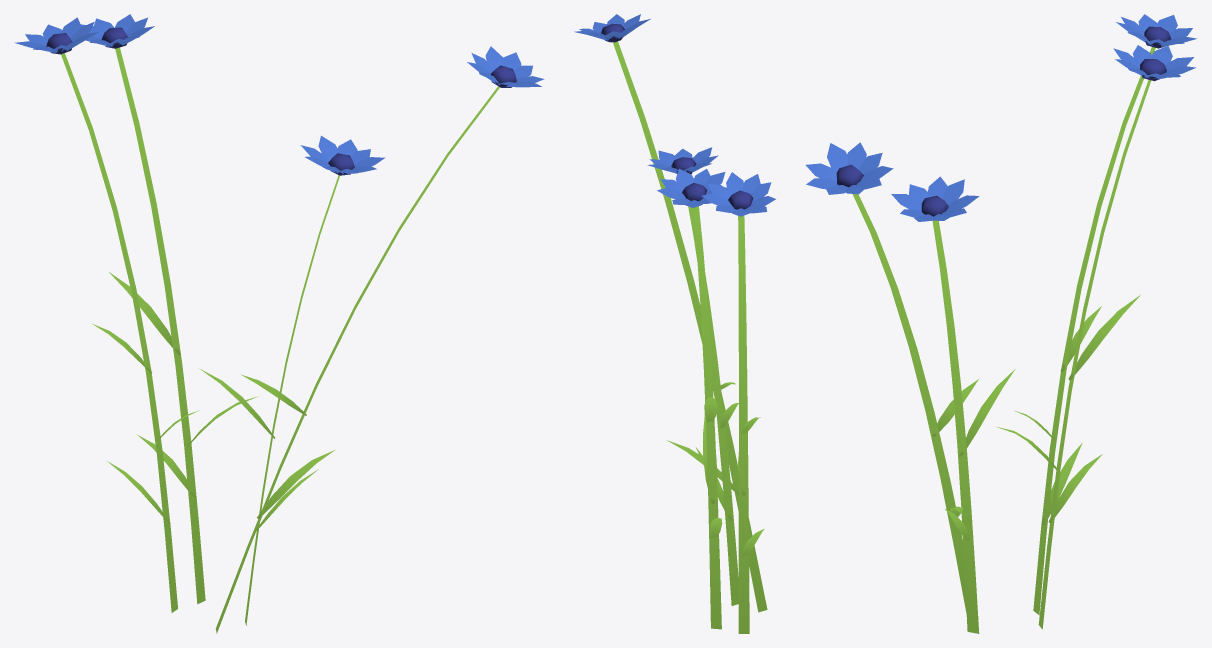
The model's file is cornflower1.gltf.
3 views of the same model, side by side, from view 1: azimuth 30°, elevation 25°; view 2: azimuth 150°, elevation 25°; view 3: azimuth 270°, elevation 25° (orthographic). The views are drawn at different scales.
Visible parts, largest first — view 1: cornflower1_stalk_LOD0, cornflower1_petal_LOD0, cornflower1_leaf_LOD0, cornflower1_center_LOD0; view 2: cornflower1_stalk_LOD0, cornflower1_petal_LOD0, cornflower1_leaf_LOD0, cornflower1_center_LOD0; view 3: cornflower1_stalk_LOD0, cornflower1_petal_LOD0, cornflower1_leaf_LOD0, cornflower1_center_LOD0.
Boxes of the visible parts, bbox=[...] form: cornflower1_stalk_LOD0: bbox=[61, 47, 499, 633]; cornflower1_petal_LOD0: bbox=[14, 14, 544, 174]; cornflower1_leaf_LOD0: bbox=[92, 272, 334, 530]; cornflower1_center_LOD0: bbox=[46, 27, 516, 175]; cornflower1_stalk_LOD0: bbox=[613, 41, 767, 633]; cornflower1_petal_LOD0: bbox=[574, 14, 775, 216]; cornflower1_leaf_LOD0: bbox=[666, 382, 764, 557]; cornflower1_center_LOD0: bbox=[601, 23, 753, 209]; cornflower1_stalk_LOD0: bbox=[852, 47, 1155, 633]; cornflower1_petal_LOD0: bbox=[805, 14, 1196, 221]; cornflower1_leaf_LOD0: bbox=[932, 295, 1140, 540]; cornflower1_center_LOD0: bbox=[836, 26, 1171, 216].
Size of what is drawn, in the model's own units: 0.3703 by 0.5459 by 0.3388.
